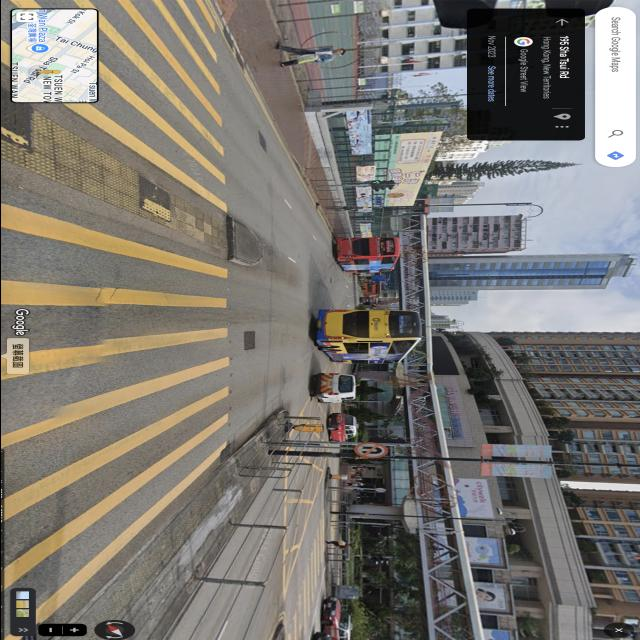Direction-Sign: (374, 197, 380, 205)
Order-Sign: (352, 441, 386, 458)
